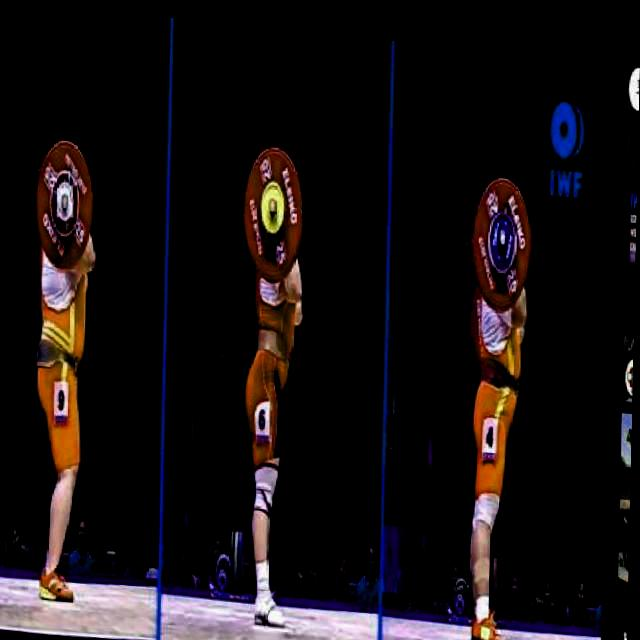barbell: (237, 136, 311, 281), (465, 161, 537, 305), (32, 135, 96, 272)
